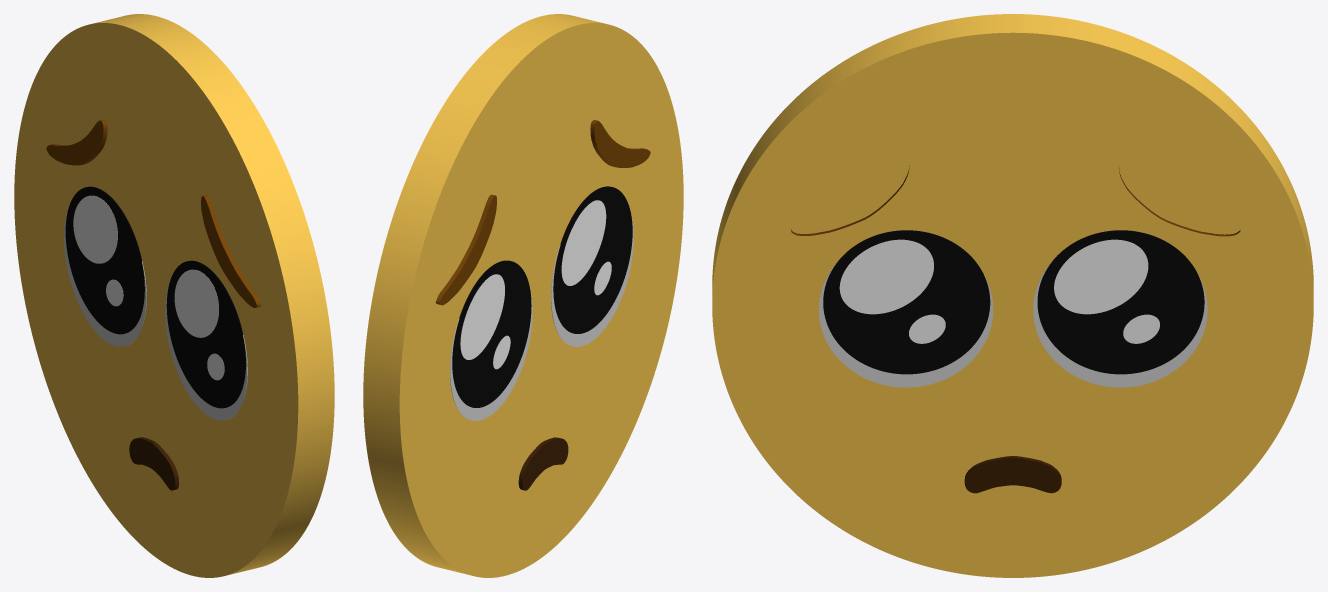
Rendered from emoji_pien.glb.
3 views of the same model, side by side, from view 1: azimuth 30°, elevation 25°; view 2: azimuth 150°, elevation 25°; view 3: azimuth 270°, elevation 25° (orthographic). The views are drawn at different scales.
Parts seen in each view (by area): view 1: face.002, eyeblack.003, eyeblack.002, eyeinside2.003, eyeinside2.002, mayu ura hidari, mayu ura migi, kuchi ura, eyewhite.003, eyewhite.002; view 2: face.002, eyeblack.002, eyeblack.003, eyeinside2.002, eyeinside2.003, mayu ura migi, mayu ura hidari, kuchi ura, eyewhite.002, eyewhite.003; view 3: face.002, eyeblack.001, eyeblack, eyeinside2.001, eyeinside2, eyewhite.001, eyewhite, kuchi omote, eyeinside.001, eyeinside.
Boxes of the visible parts, x1,y1,x2,y2 form: face.002: [14, 14, 334, 577]; eyeblack.003: [65, 186, 144, 334]; eyeblack.002: [166, 260, 245, 408]; eyeinside2.003: [73, 195, 117, 263]; eyeinside2.002: [174, 269, 218, 337]; mayu ura hidari: [201, 195, 260, 307]; mayu ura migi: [46, 119, 107, 165]; kuchi ura: [129, 437, 178, 490]; eyewhite.003: [64, 204, 146, 346]; eyewhite.002: [165, 278, 247, 420]; face.002: [363, 14, 683, 577]; eyeblack.002: [553, 186, 632, 333]; eyeblack.003: [452, 260, 531, 407]; eyeinside2.002: [561, 200, 606, 285]; eyeinside2.003: [460, 274, 504, 359]; mayu ura migi: [435, 194, 496, 305]; mayu ura hidari: [590, 120, 650, 167]; kuchi ura: [518, 437, 568, 490]; eyewhite.002: [551, 215, 633, 346]; eyewhite.003: [450, 290, 532, 420]; face.002: [712, 14, 1313, 577]; eyeblack.001: [1037, 230, 1204, 374]; eyeblack: [823, 230, 990, 374]; eyeinside2.001: [1054, 239, 1148, 314]; eyeinside2: [839, 239, 933, 314]; eyewhite.001: [1033, 261, 1207, 387]; eyewhite: [819, 261, 993, 387]; kuchi omote: [964, 456, 1061, 493]; eyeinside.001: [1123, 314, 1159, 343]; eyeinside: [909, 314, 945, 343].
Bounding box in the file's own units: 0.4137 × 4.58 × 4.58.
